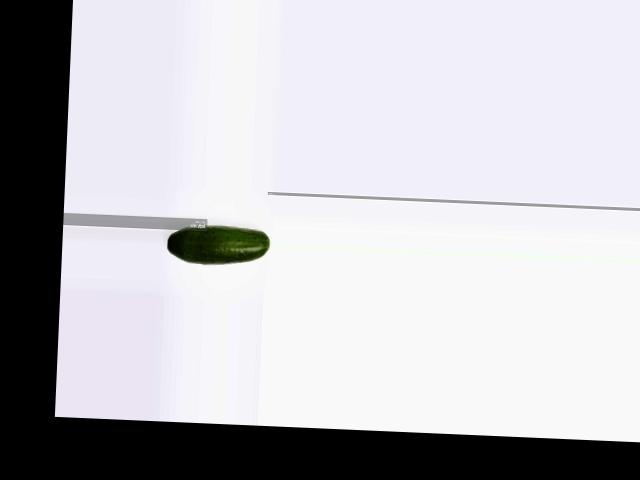cucumber: (164, 223, 270, 267)
